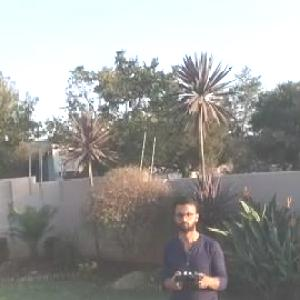follow: (154, 190, 234, 299)
